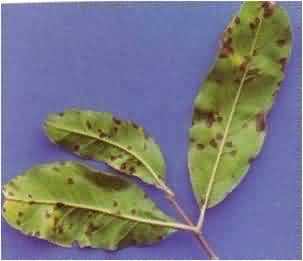unhealthy: (198, 15, 287, 201), (16, 163, 180, 251), (38, 104, 182, 161)
